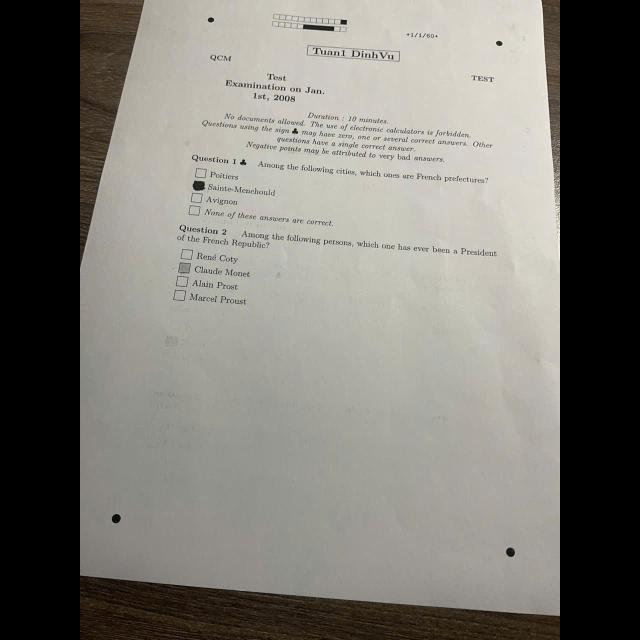Markers: (505, 547, 515, 557), (112, 513, 122, 523), (206, 17, 214, 23), (496, 40, 502, 46)
